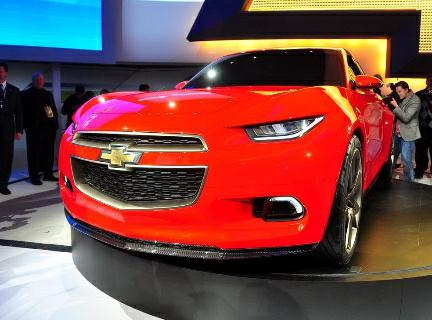雪佛兰-Code: (52, 43, 402, 278)
